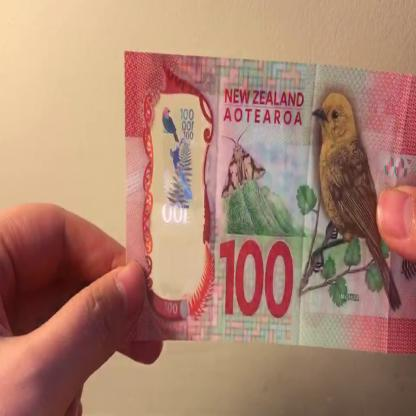100B: (158, 95, 200, 264)
